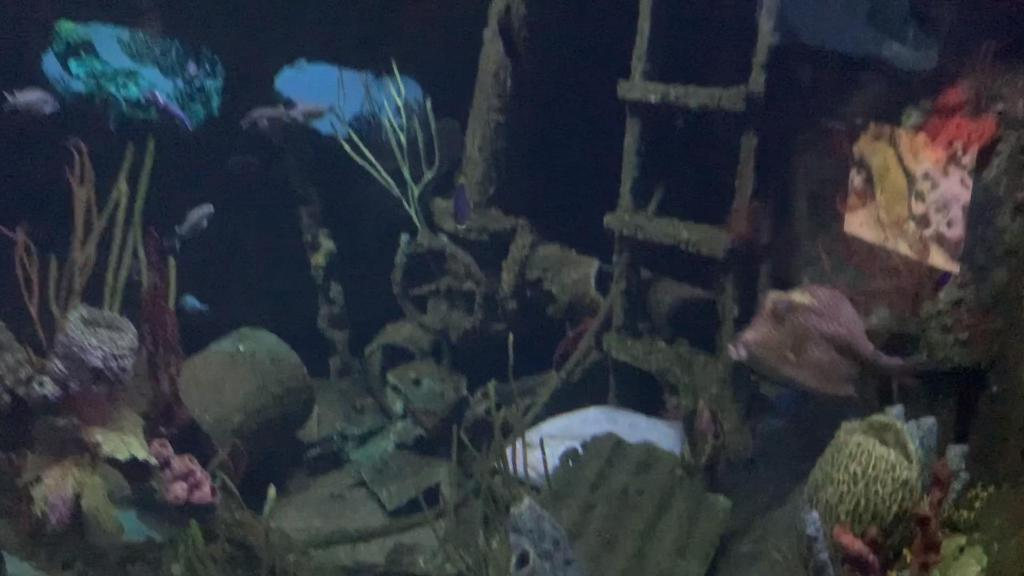fish: (725, 276, 907, 404), (488, 406, 686, 494), (239, 100, 311, 138), (168, 202, 216, 252), (0, 83, 62, 117), (174, 294, 210, 314)
